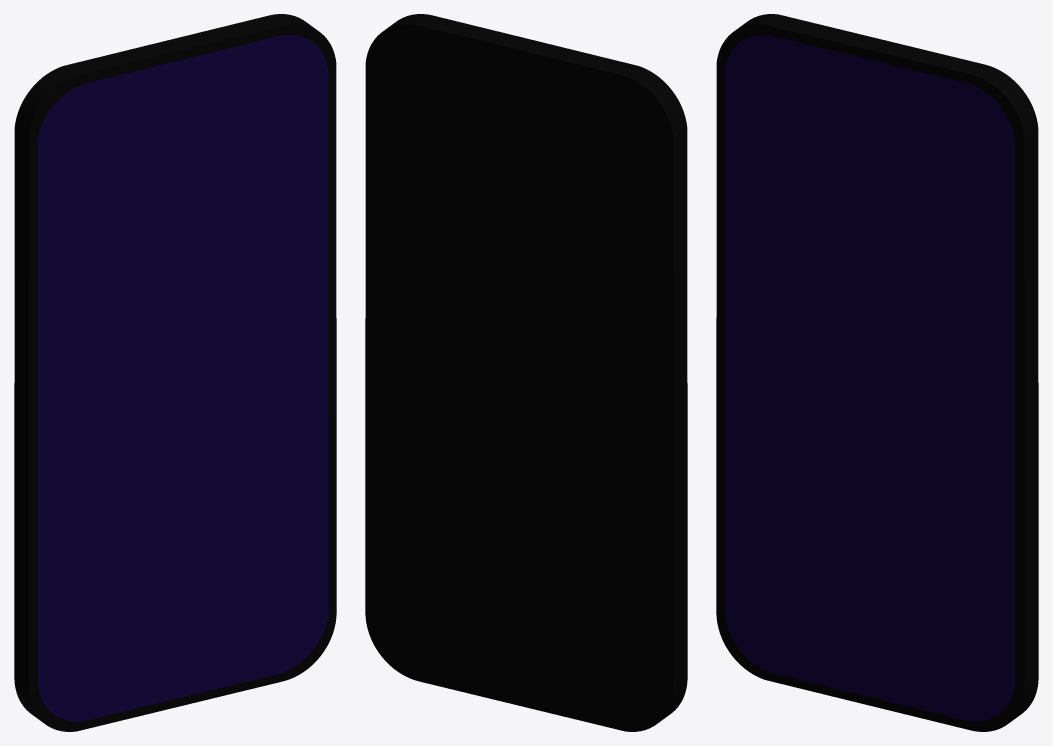
File: Mita_phone6.glb
3 views of the same model, side by side, from view 1: azimuth 30°, elevation 25°; view 2: azimuth 150°, elevation 25°; view 3: azimuth 330°, elevation 25° (orthographic).
Visible parts, largest first — view 1: Cylinder.004, Cylinder.003; view 2: Cylinder.003; view 3: Cylinder.004, Cylinder.003.
Part boxes in pixels (bbox=[...]): Cylinder.004: bbox=[37, 35, 328, 721]; Cylinder.003: bbox=[14, 14, 336, 731]; Cylinder.003: bbox=[365, 14, 687, 731]; Cylinder.004: bbox=[724, 35, 1015, 721]; Cylinder.003: bbox=[716, 14, 1038, 731].
Size of the model in its own units: 2.36 by 4.79 by 0.1925.
